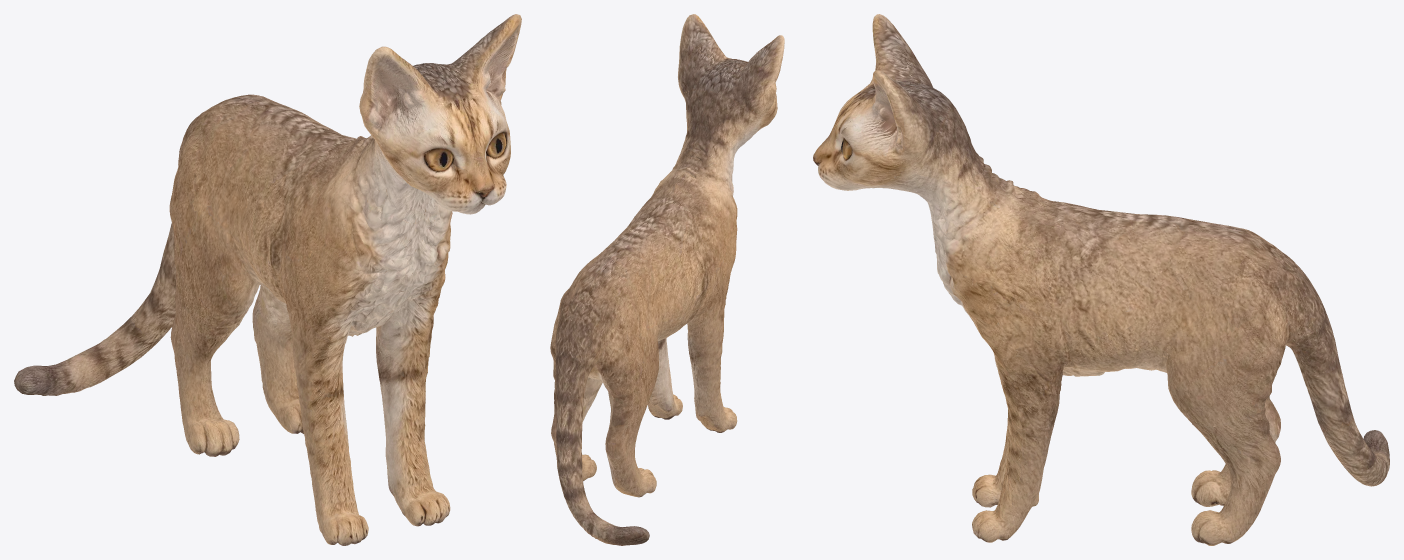
File: meshy-devonrex.glb
The picture shows the model from 3 angles, left to right: view 1: azimuth 30°, elevation 25°; view 2: azimuth 150°, elevation 25°; view 3: azimuth 270°, elevation 25°; orthographic projection. The views are drawn at different scales.
Visible parts, largest first — view 1: Mesh_0; view 2: Mesh_0; view 3: Mesh_0.
Part boxes in pixels (x1,y1,x2,y2): Mesh_0: (14, 14, 521, 545); Mesh_0: (550, 14, 784, 545); Mesh_0: (813, 14, 1389, 545).
Bounding box in the file's own units: 0.7483 × 1.74 × 1.9.
1 material, 1 textured.
